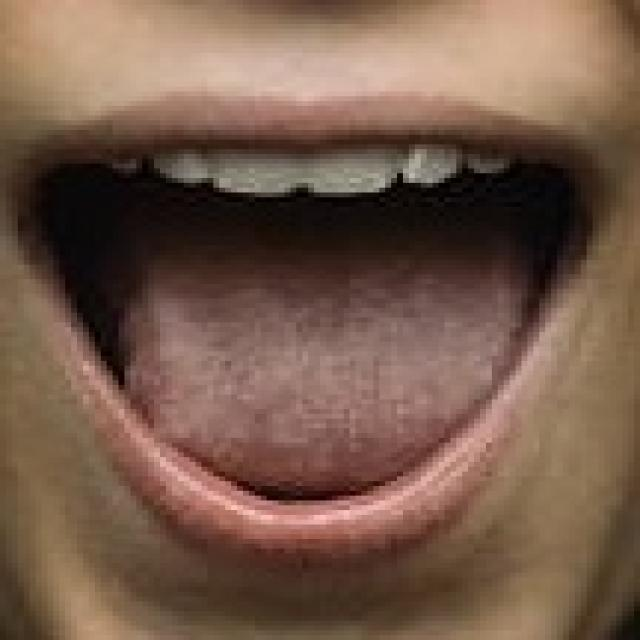open-mouth: (0, 91, 610, 567)
